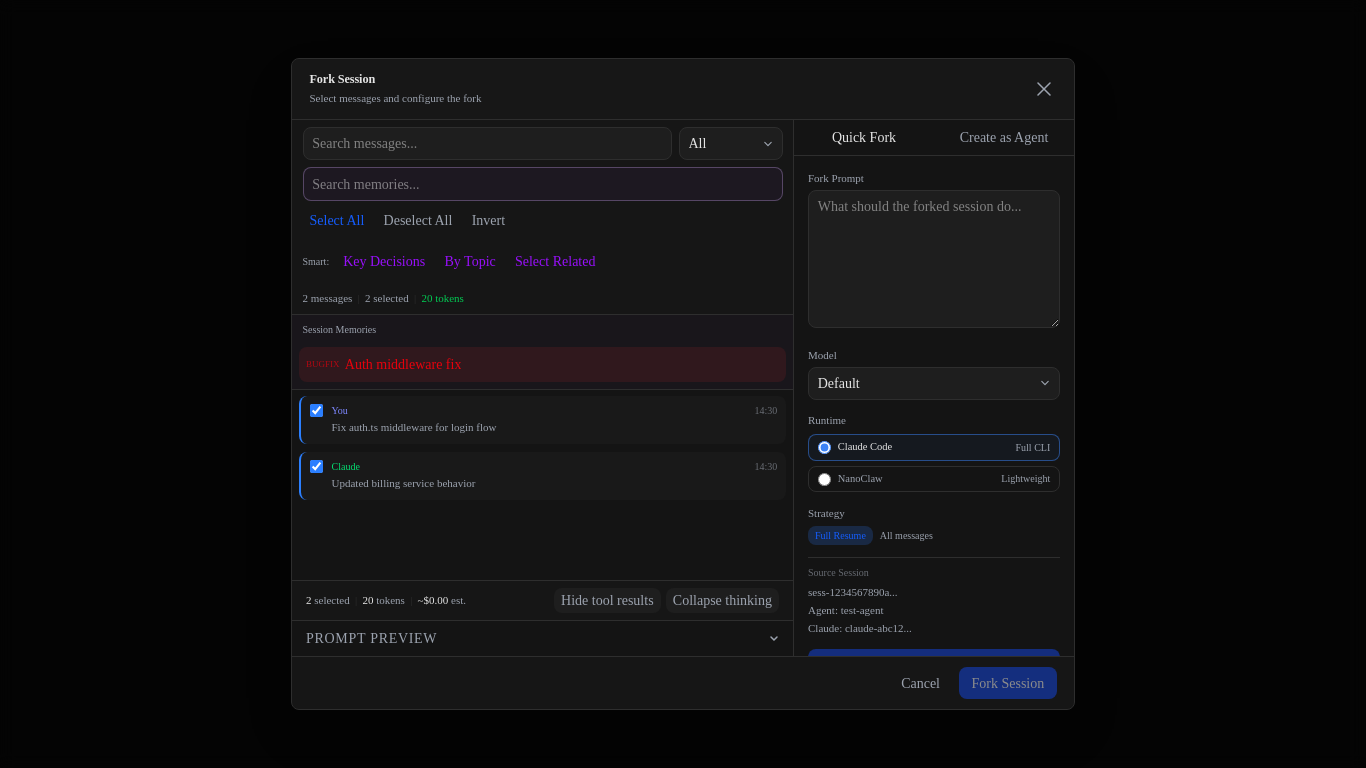
ContextPickerDialog › memory integration › clicking a memory observation auto-selects matching messages
Check: the text "Auth middleware fix" is shown, box top-left (345, 354), bottom-right (461, 375)
Click the button "Deselect All".
click(418, 220)  # box top-left (377, 208), bottom-right (459, 232)
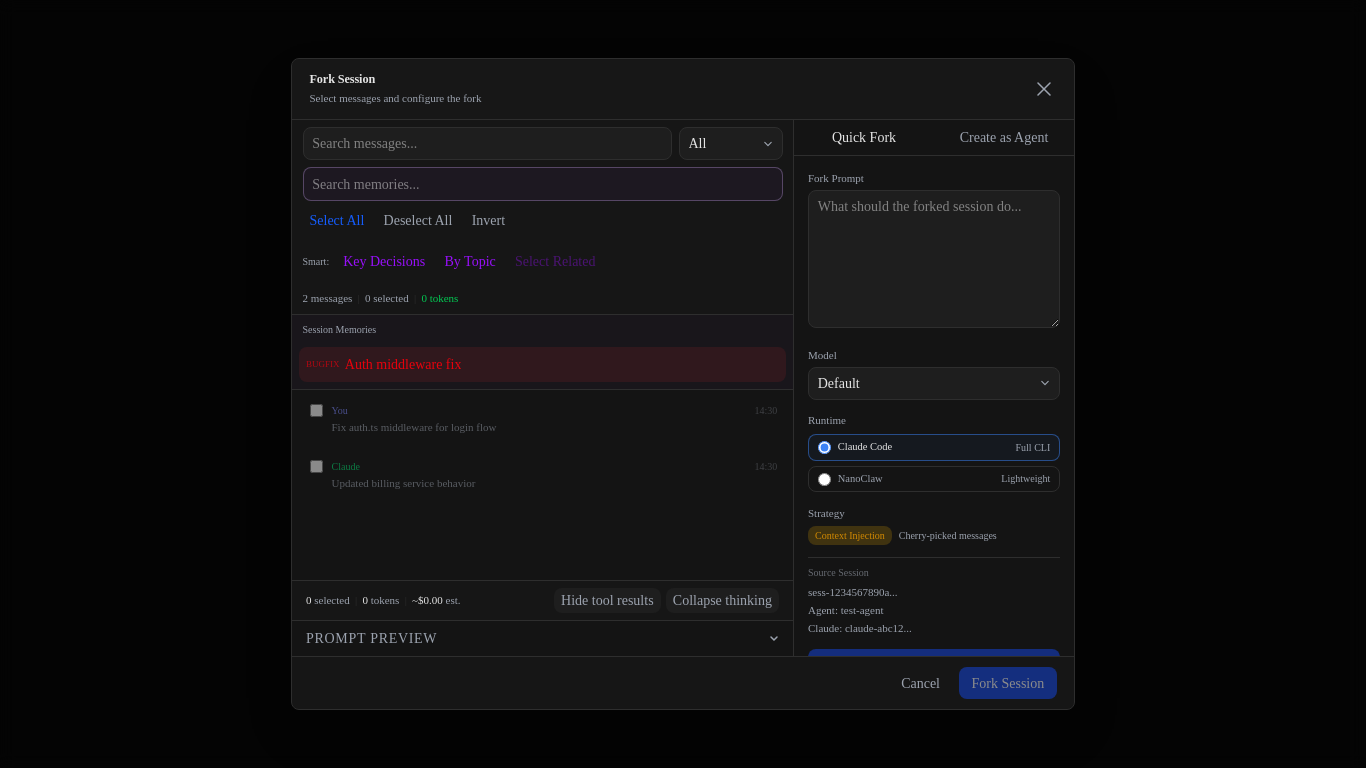
Check: the text "0 selected" is shown, box top-left (365, 290), bottom-right (409, 307)
Click the text "Auth middleware fix".
click(403, 365)  # box top-left (345, 354), bottom-right (461, 375)
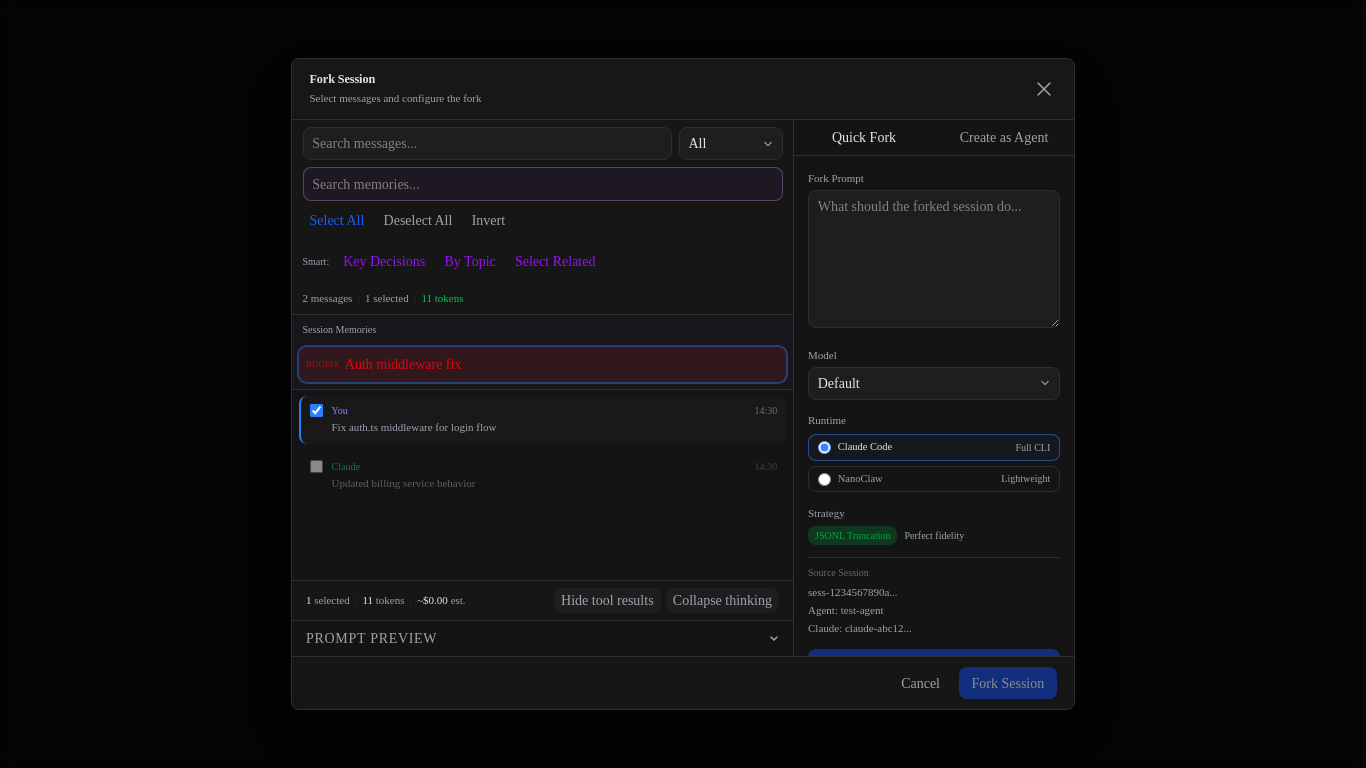
Check: the checkbox named "Select message 2" is not checked, box top-left (310, 460), bottom-right (323, 473)
Check: the text "1 selected" is shown, box top-left (365, 290), bottom-right (409, 307)
Check: the checkbox named "Select message 1" is checked, box top-left (310, 404), bottom-right (323, 417)
